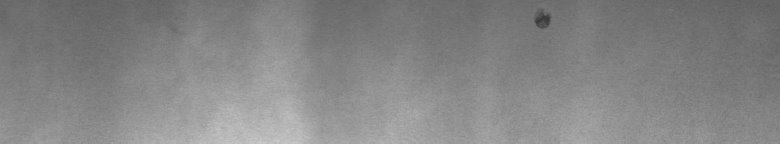fi: (529, 4, 556, 36)
